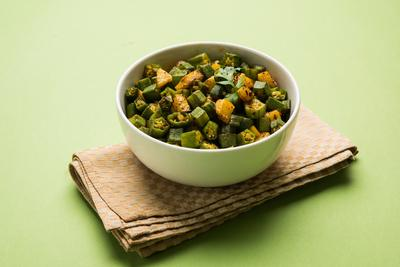bhindi: (144, 62, 277, 137)
